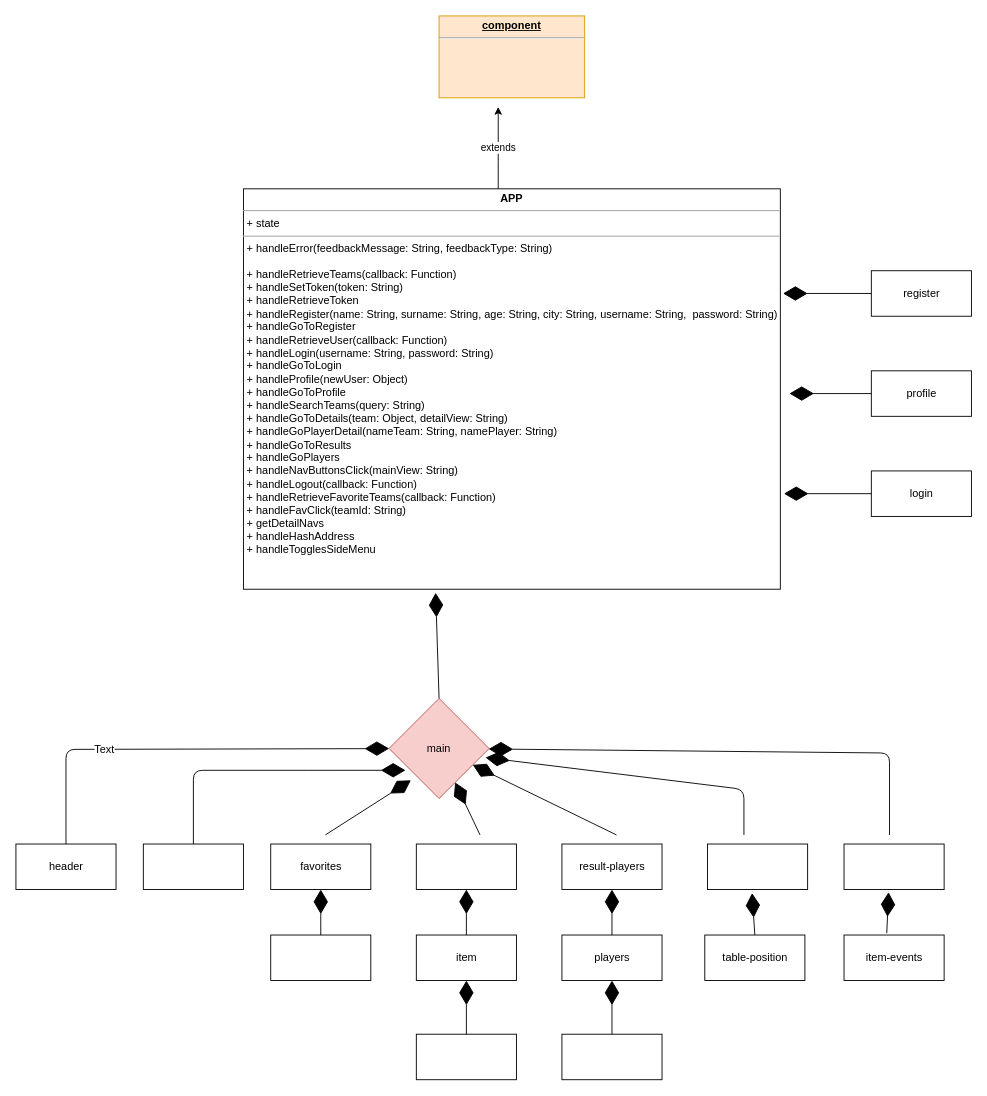
The diagram is 987 pixels wide and 1096 high, and some of its shapes have lost their labels. Here are the shapes that lost their labels. From the top down, the box of each, then its label:
(142, 843, 243, 890): feedback
(415, 843, 516, 890): results
(707, 843, 808, 890): result-table
(843, 843, 944, 890): result-event
(270, 934, 371, 981): favoriteItem
(415, 1033, 516, 1080): teamDetail
(561, 1033, 662, 1080): player-detail
